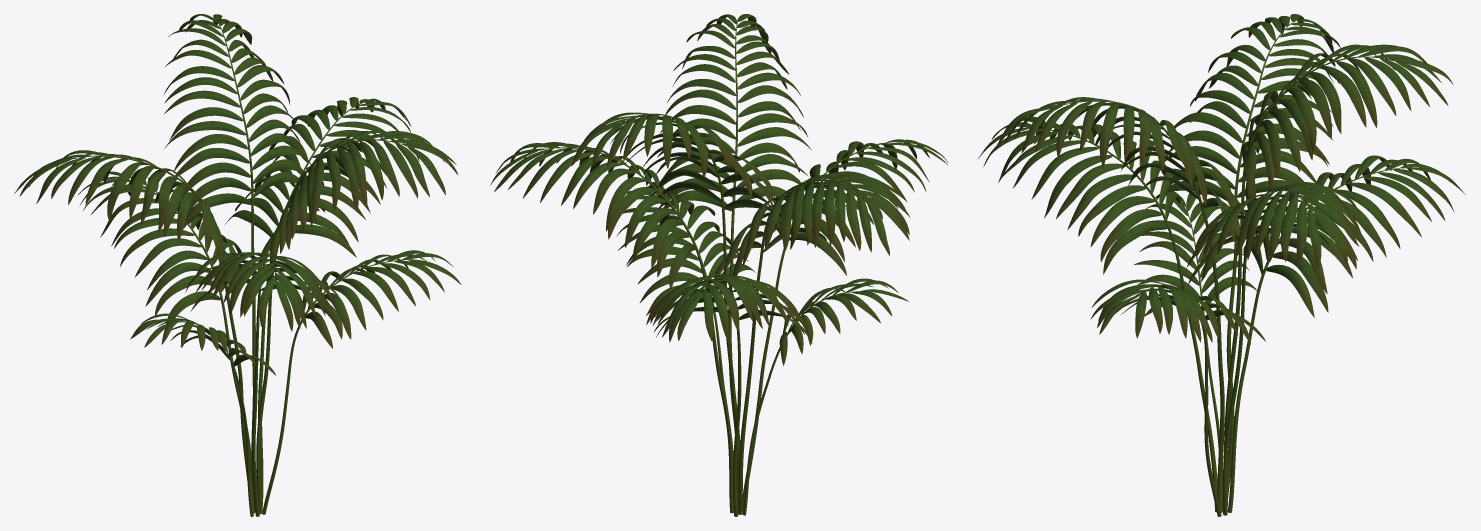
Rendered from hoewa_Forsteriana_2.obj.
3 renders of one model, left to right at view 1: azimuth 30°, elevation 25°; view 2: azimuth 150°, elevation 25°; view 3: azimuth 270°, elevation 25°, orthographic. The views are drawn at different scales.
Parts seen in each view (by area): view 1: Howea_f__A002; view 2: Howea_f__A002; view 3: Howea_f__A002.
Part boxes in pixels (left/top/right/bottom): Howea_f__A002: left=14, top=14, right=461, bottom=516; Howea_f__A002: left=490, top=14, right=947, bottom=516; Howea_f__A002: left=978, top=14, right=1465, bottom=516.
Bounding box in the file's own units: 164 × 171 × 159.
Materials: 2 (2 with a texture image).
